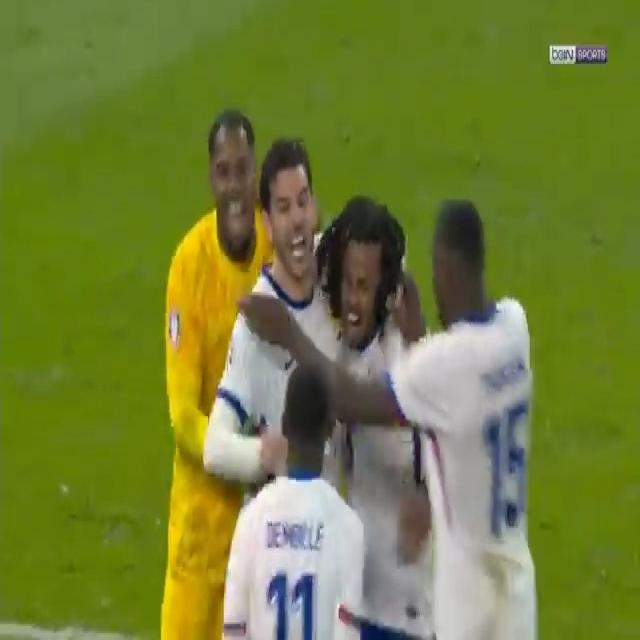joueur: (156, 106, 286, 637), (386, 194, 540, 640)
